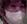with_mask: (1, 1, 27, 24)
